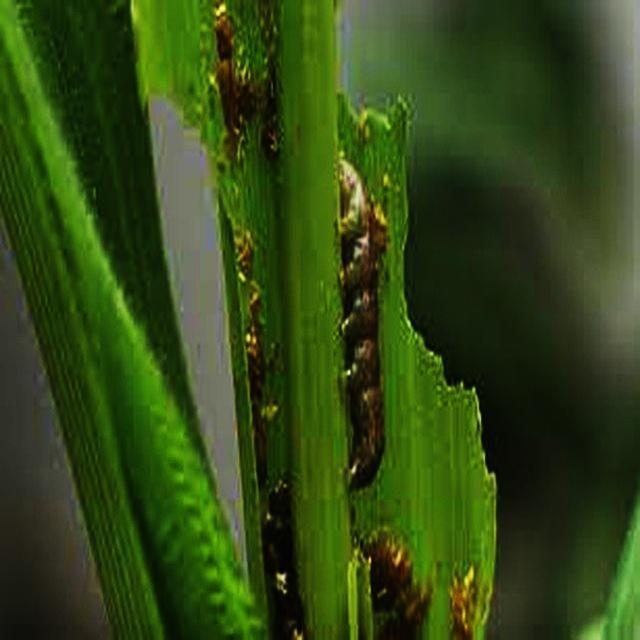Plaga: (335, 155, 390, 497)
